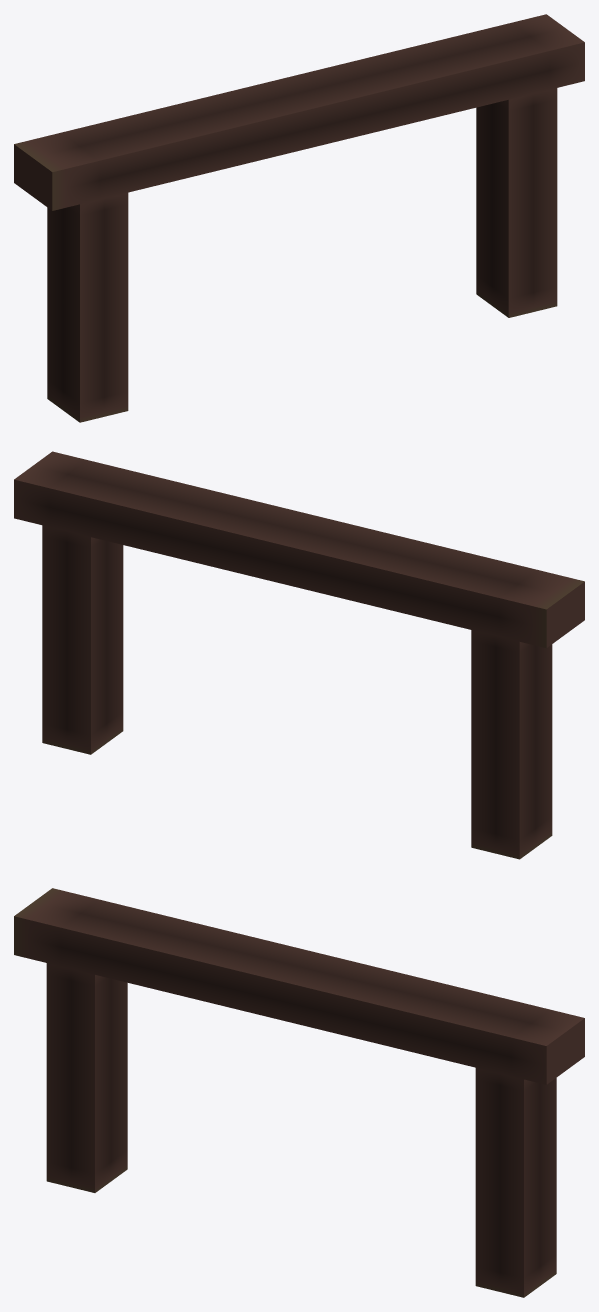
File: horse_parking_normal_v01.fbx
3 views of the same model, one above another, from view 1: azimuth 30°, elevation 25°; view 2: azimuth 150°, elevation 25°; view 3: azimuth 330°, elevation 25° (orthographic).
Parts seen in each view (by area): view 1: horse_parking_normal_v01; view 2: horse_parking_normal_v01; view 3: horse_parking_normal_v01.
Part boxes in pixels (x1,y1,x2,y2): horse_parking_normal_v01: (14, 14, 584, 422); horse_parking_normal_v01: (14, 451, 584, 859); horse_parking_normal_v01: (14, 888, 584, 1297).
Size of the model in its own units: 301 by 140 by 37.6.
